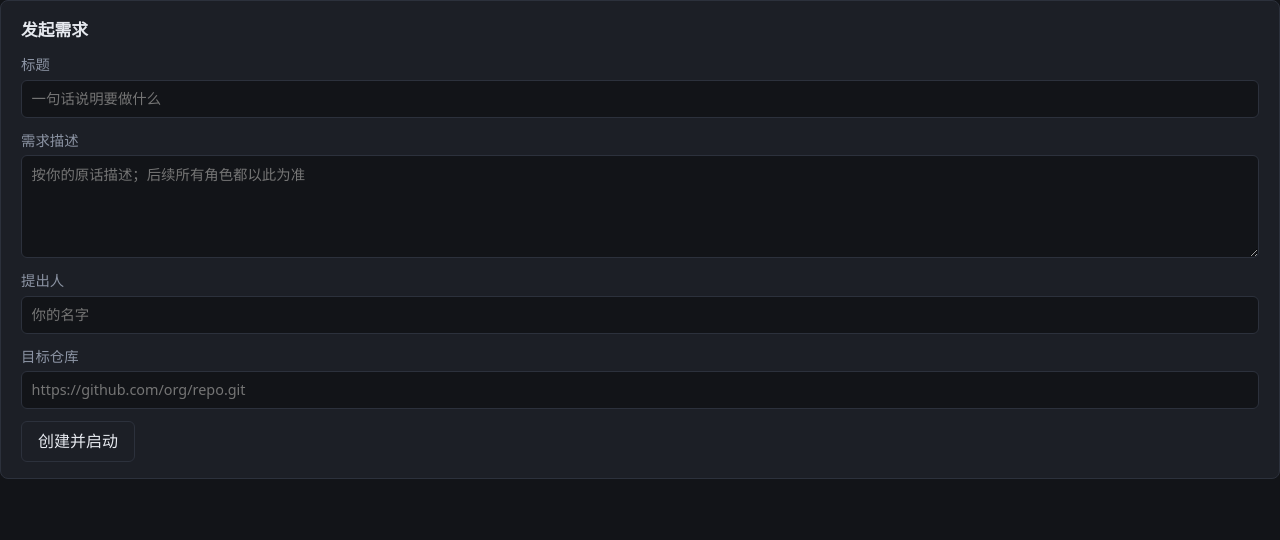
it: NewRunForm › shows the server's message instead of navigating when creation fails
Type "Add CSV export" into the field labelled "标题" at [640, 99], box x1=21 y1=80 x2=1259 y2=118
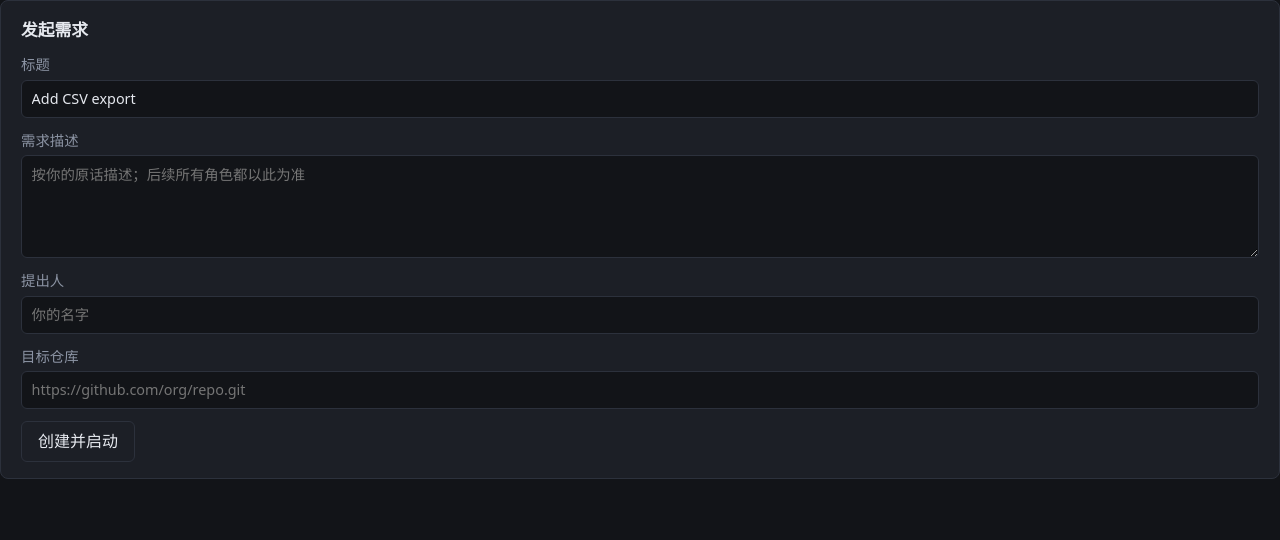
Type "Users cannot get data out." into the text box labelled "需求描述" at [640, 207], box x1=21 y1=155 x2=1259 y2=258
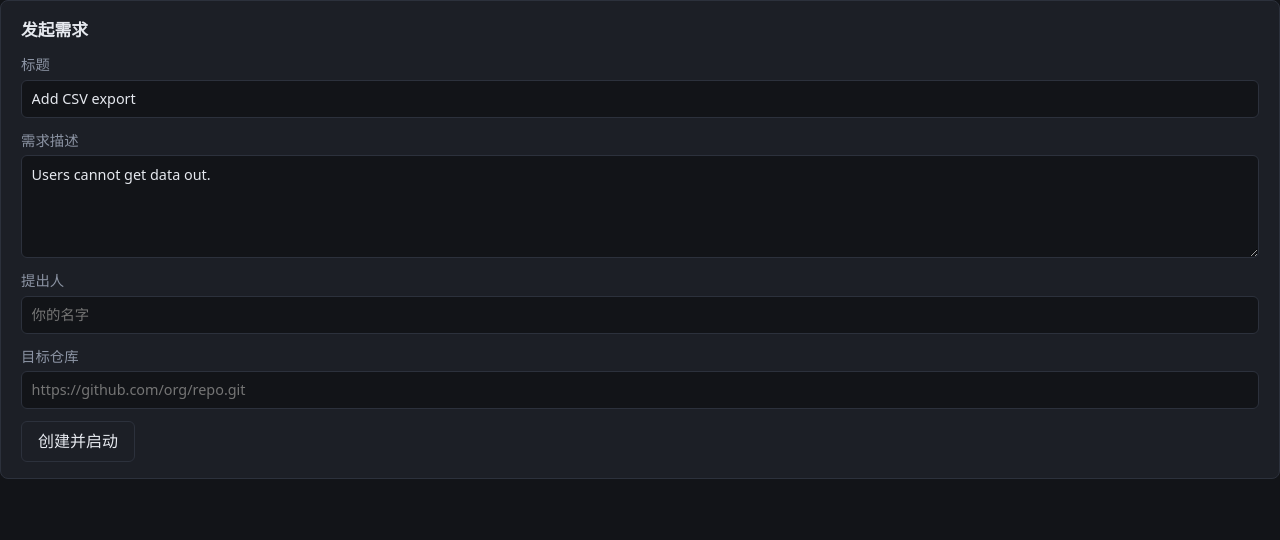
Type "alice" into the field labelled "提出人" at [640, 315], box x1=21 y1=296 x2=1259 y2=334
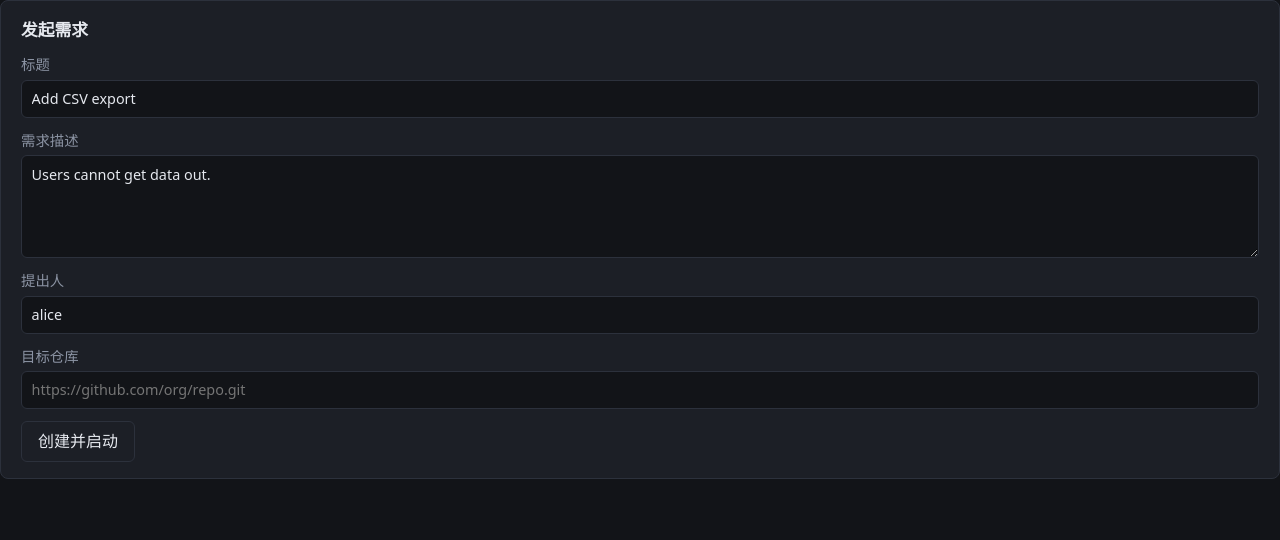
Type "https://github.com/example/reports.git" into the field labelled "目标仓库" at [640, 390], box x1=21 y1=371 x2=1259 y2=409
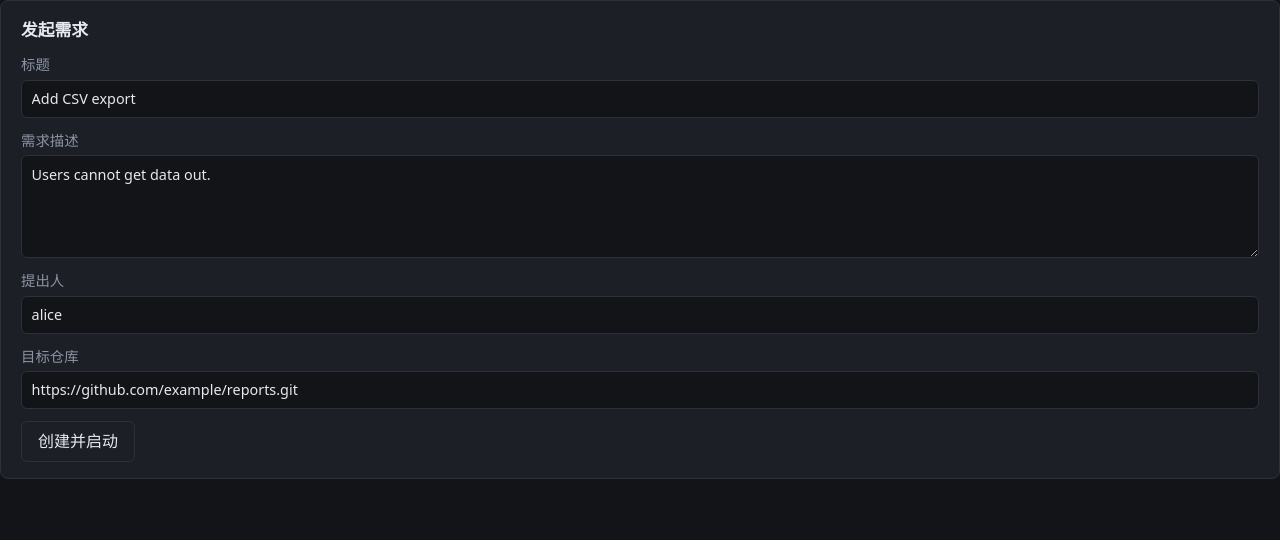
Click the button "创建并启动" at [78, 441], box x1=21 y1=421 x2=135 y2=462
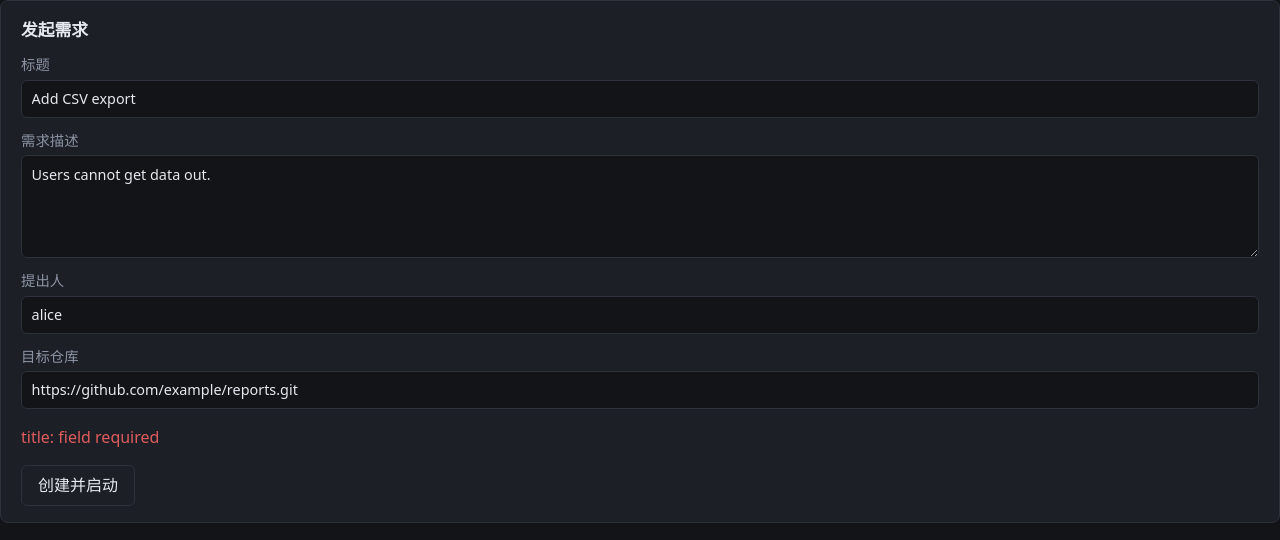
Expected: the text "title: field required" is shown, x1=21 y1=426 x2=159 y2=448
